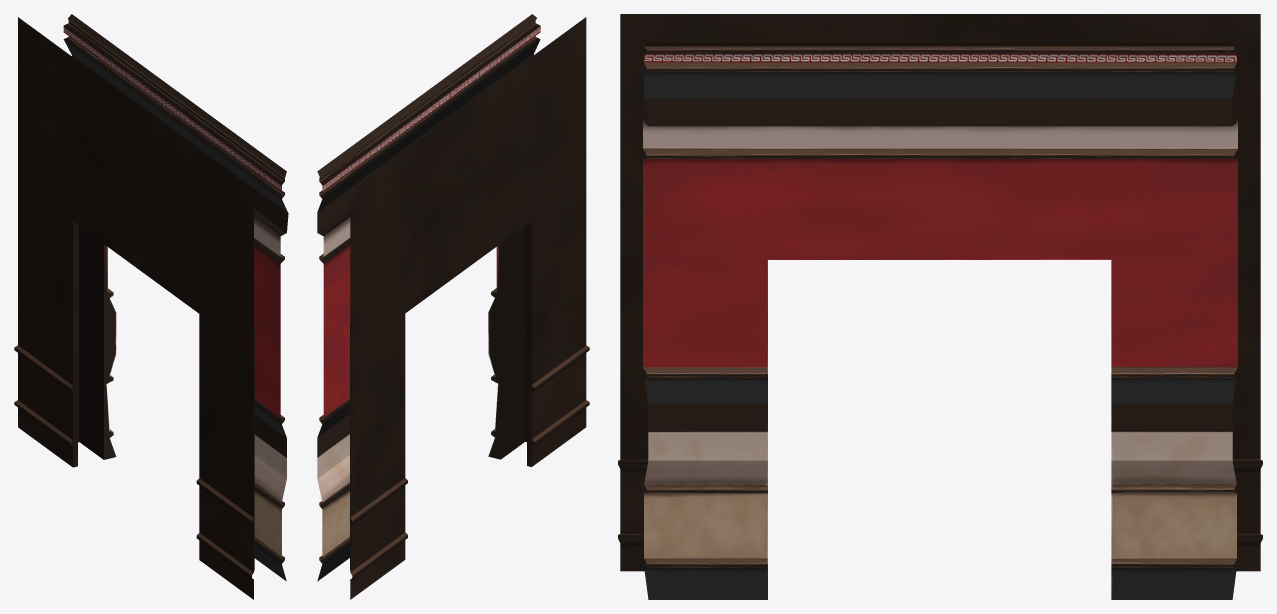
Rendered from em_wall_atrium_door 2.fbx.
The picture shows the model from 3 angles, left to right: view 1: azimuth 30°, elevation 25°; view 2: azimuth 150°, elevation 25°; view 3: azimuth 270°, elevation 25°; orthographic projection. The views are drawn at different scales.
Visible parts, largest first — view 1: em_wall_atrium_door; view 2: em_wall_atrium_door; view 3: em_wall_atrium_door.
Part boxes in pixels (box(x1,y1,x2,y2)): em_wall_atrium_door: box(14, 14, 288, 599); em_wall_atrium_door: box(317, 14, 589, 599); em_wall_atrium_door: box(618, 14, 1262, 599).
Size of the model in its own units: 236 by 2000 by 2098.
